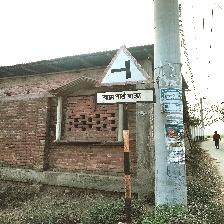Side-road-left: (94, 45, 176, 107)
